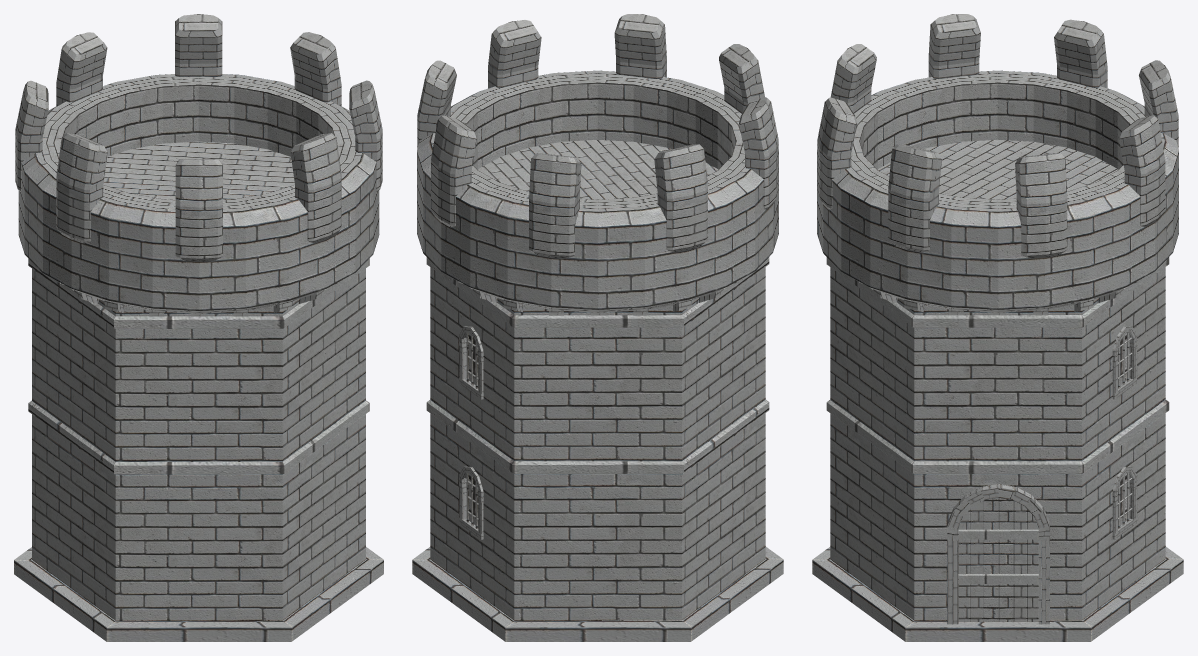
File: tower2.fbx
3 renders of one model, left to right at view 1: azimuth 30°, elevation 25°; view 2: azimuth 150°, elevation 25°; view 3: azimuth 270°, elevation 25°, orthographic.
Parts seen in each view (by area): view 1: Bas_Destek.015; view 2: Bas_Destek.015; view 3: Bas_Destek.015.
Boxes of the visible parts, x1,y1,x2,y2 form: Bas_Destek.015: [14, 14, 383, 641]; Bas_Destek.015: [412, 14, 783, 641]; Bas_Destek.015: [812, 14, 1183, 641].
Bounding box in the file's own units: 231 × 344 × 237.
1 material, 1 textured.
